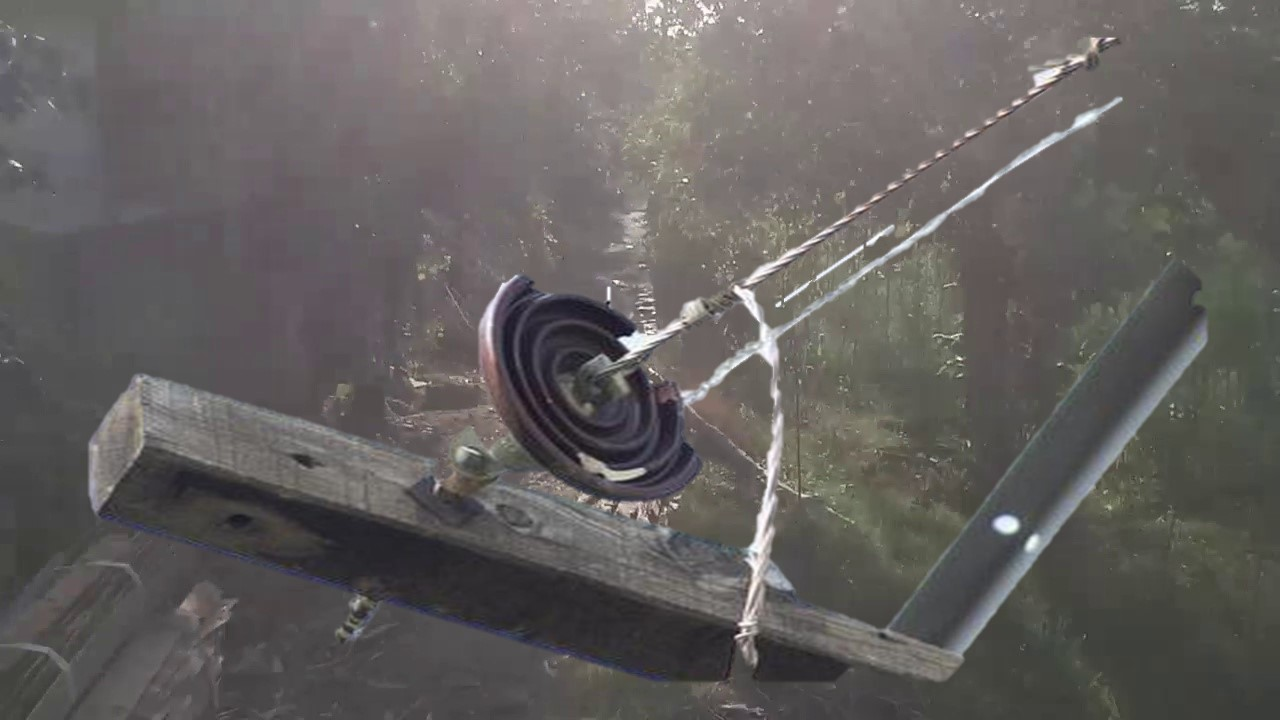defect_disc: (472, 261, 712, 513)
